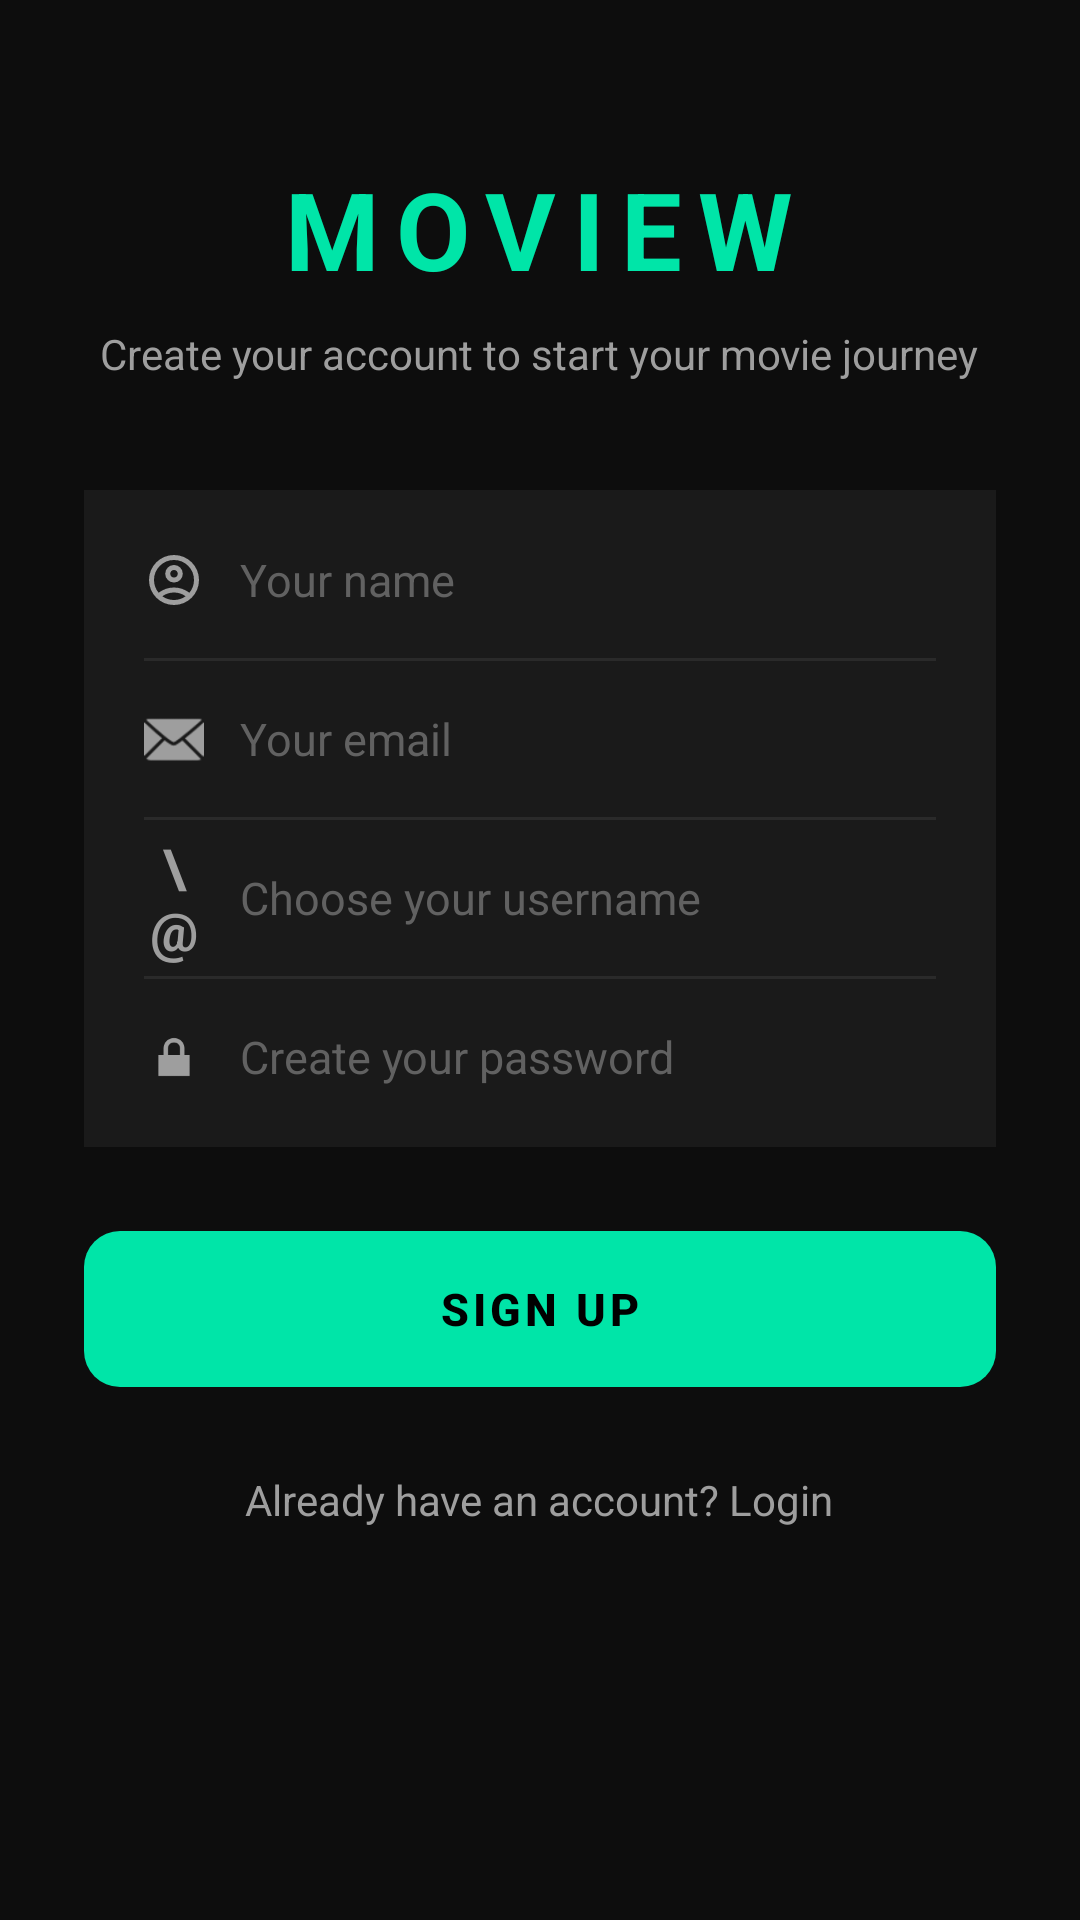

Screen size 1080w x 1920h. Icon name, then its box in pixels as (x1, y1, x2, y2):
account circle: (149, 555, 199, 605)
lock: (158, 1038, 190, 1076)
